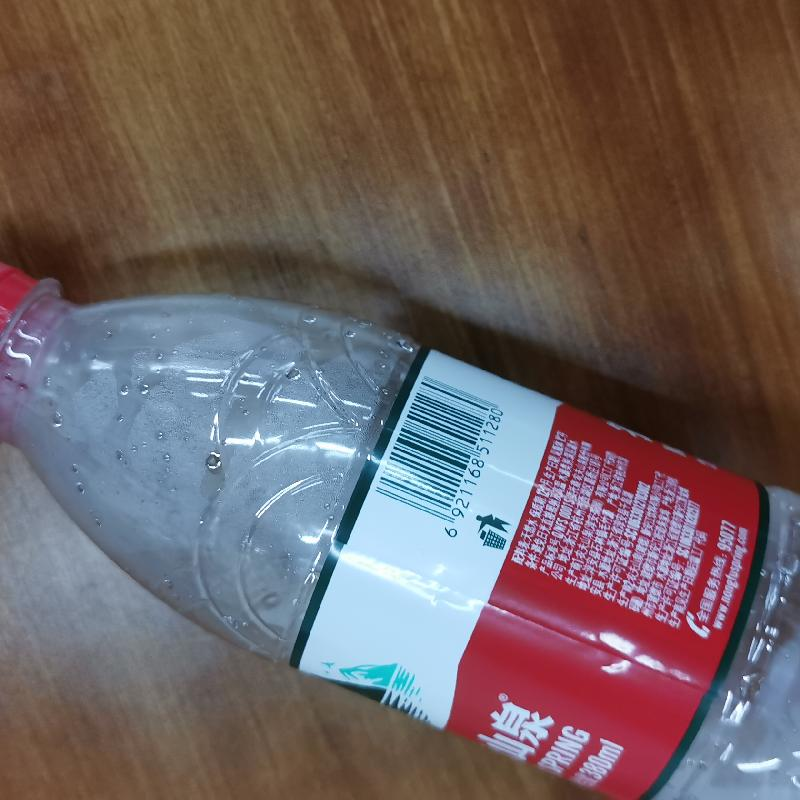bottles: (2, 252, 799, 800)
